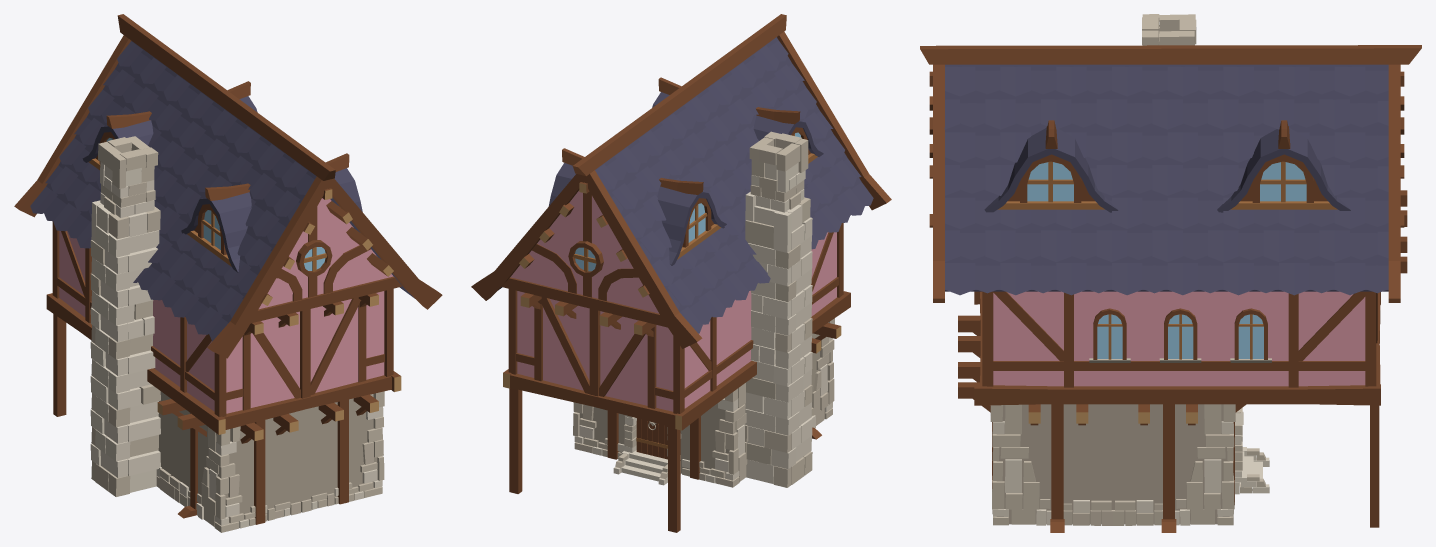
The model's file is cottage-b-pink.glb.
3 renders of one model, left to right at view 1: azimuth 30°, elevation 25°; view 2: azimuth 150°, elevation 25°; view 3: azimuth 270°, elevation 25°, orthographic. The views are drawn at different scales.
Visible parts, largest first — view 1: House_2; view 2: House_2; view 3: House_2.
Part boxes in pixels (left/top/right/bottom): House_2: left=14, top=14, right=442, bottom=532; House_2: left=471, top=14, right=891, bottom=532; House_2: left=920, top=14, right=1421, bottom=532.
Bounding box in the file's own units: 2.22 × 3.25 × 3.42.
